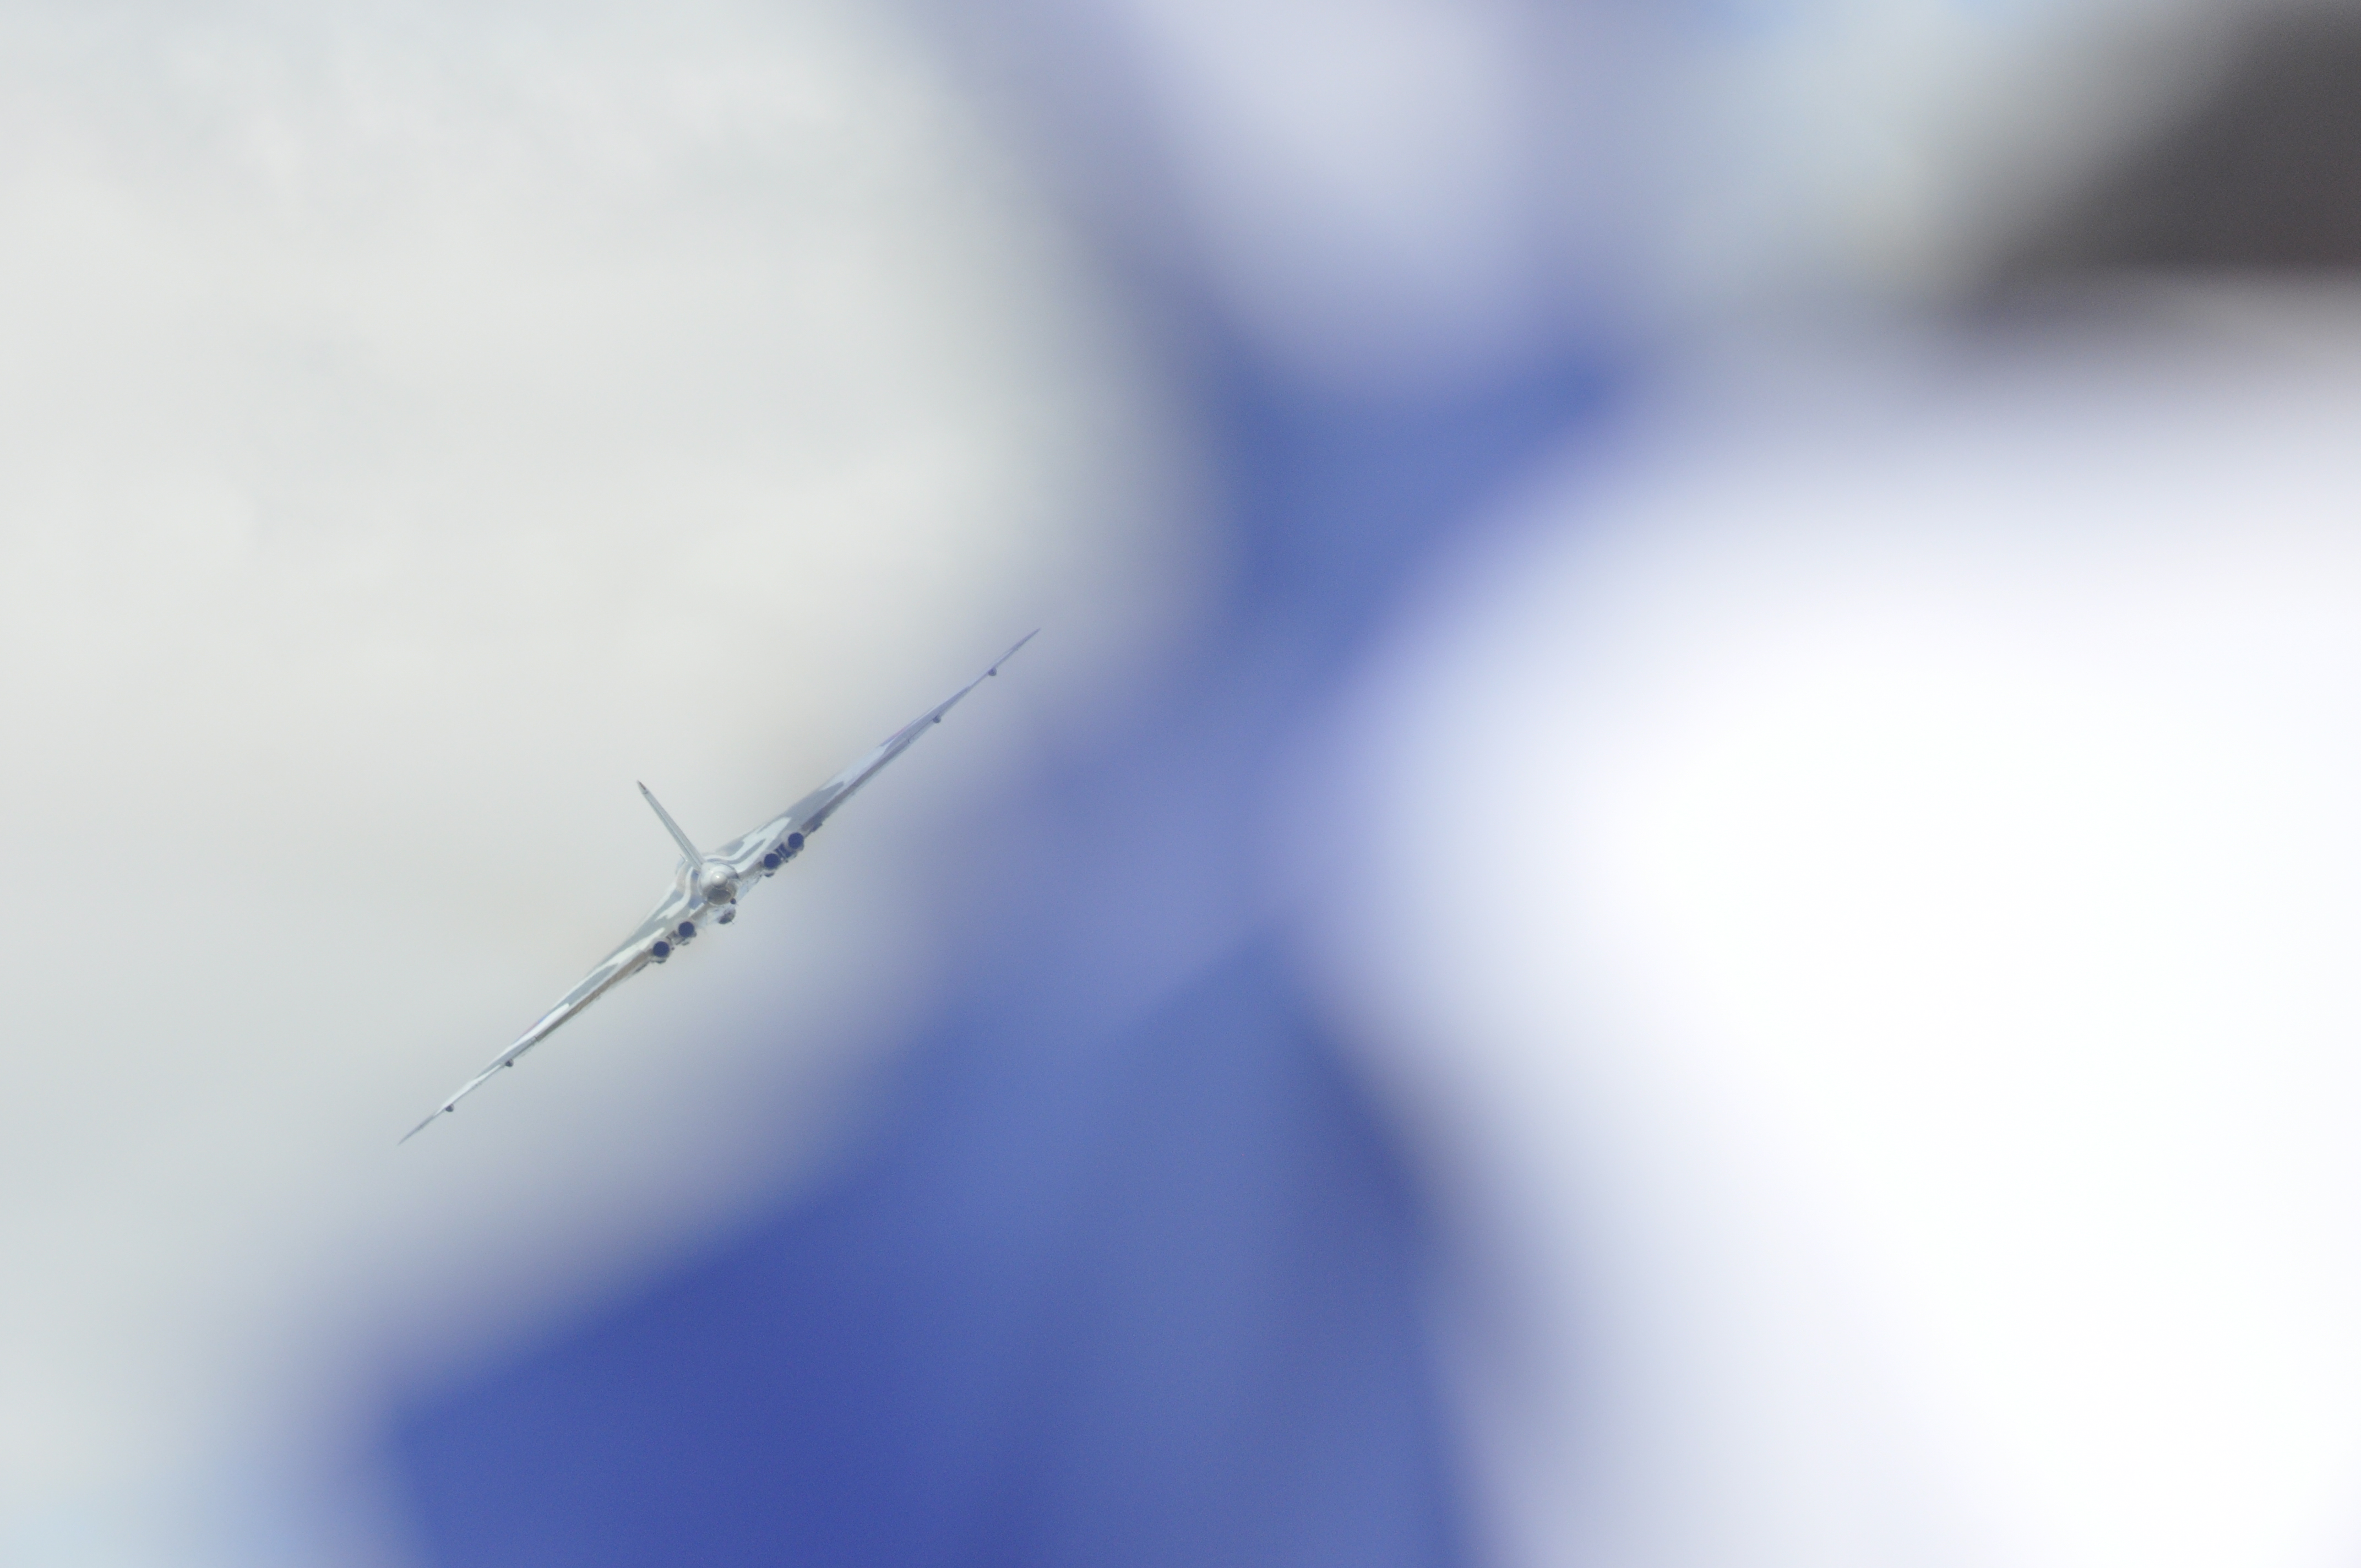Mirage2000: (396, 626, 1043, 1148)
